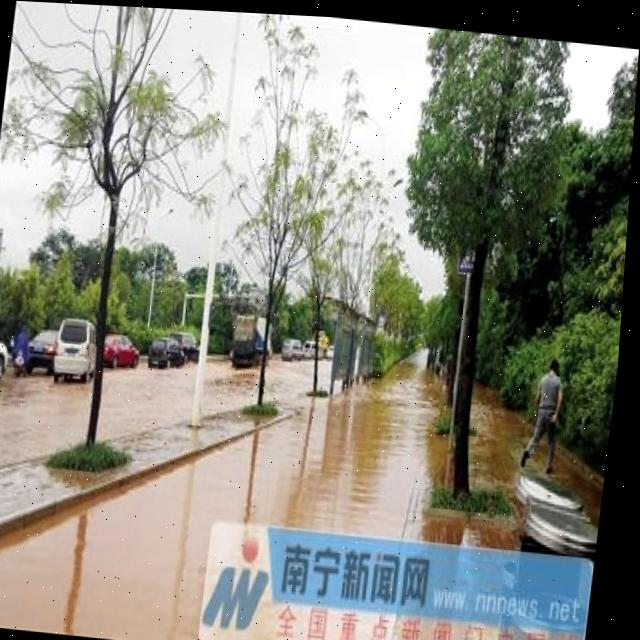civilian: (510, 346, 583, 487)
